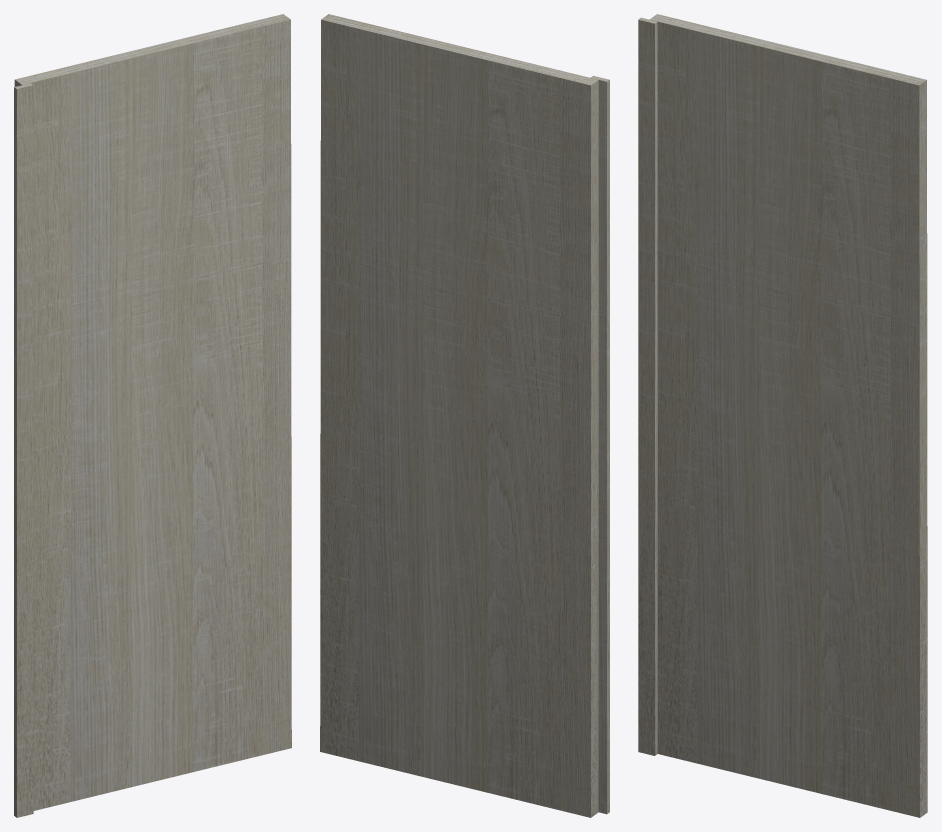
Rendered from door_80.dae.
3 renders of one model, left to right at view 1: azimuth 30°, elevation 25°; view 2: azimuth 150°, elevation 25°; view 3: azimuth 330°, elevation 25°, orthographic.
Parts seen in each view (by area): view 1: dvere_80_bezkliky; view 2: dvere_80_bezkliky; view 3: dvere_80_bezkliky.
Part boxes in pixels (box(x1,y1,x2,y2)): dvere_80_bezkliky: box(14, 14, 291, 817); dvere_80_bezkliky: box(320, 14, 609, 817); dvere_80_bezkliky: box(638, 14, 927, 817).
Size of the model in its own units: 0.8375 by 0.055 by 2.1.
1 material, 1 textured.
